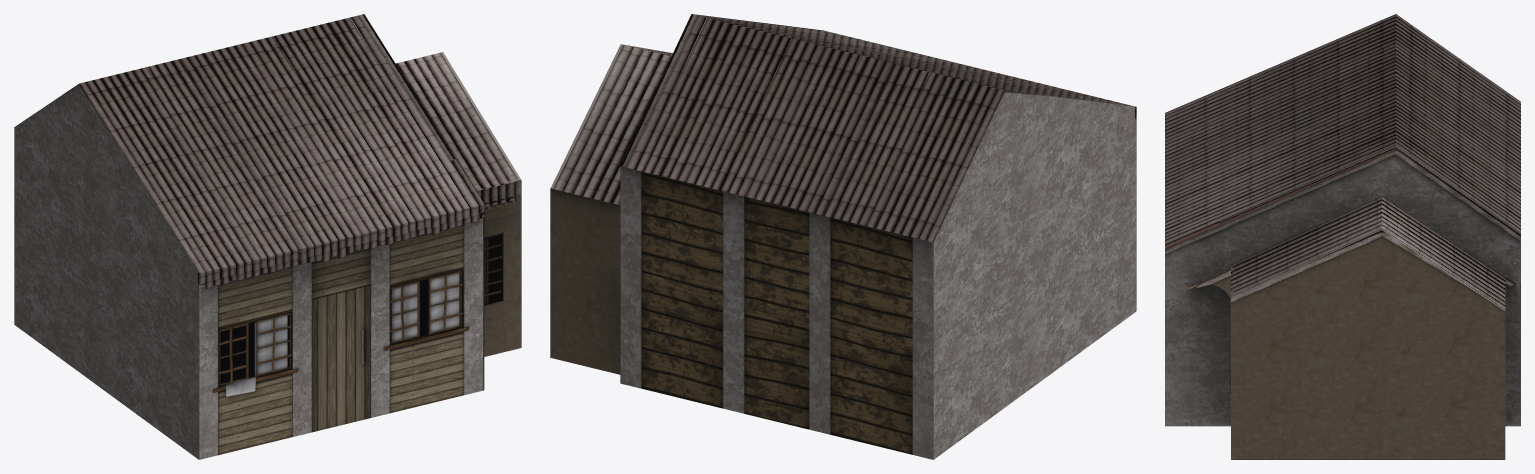
File: house2_LOD2.FBX
The picture shows the model from 3 angles, left to right: view 1: azimuth 30°, elevation 25°; view 2: azimuth 150°, elevation 25°; view 3: azimuth 270°, elevation 25°; orthographic projection. The views are drawn at different scales.
Visible parts, largest first — view 1: house2_LOD2; view 2: house2_LOD2; view 3: house2_LOD2.
Boxes of the visible parts, x1=… form: house2_LOD2: x1=14, y1=14, x2=521, y2=459; house2_LOD2: x1=550, y1=14, x2=1136, y2=459; house2_LOD2: x1=1165, y1=14, x2=1520, y2=459.
Bounding box in the file's own units: 748 × 579 × 671.
